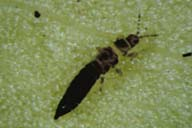Thrips: (49, 17, 162, 126)
